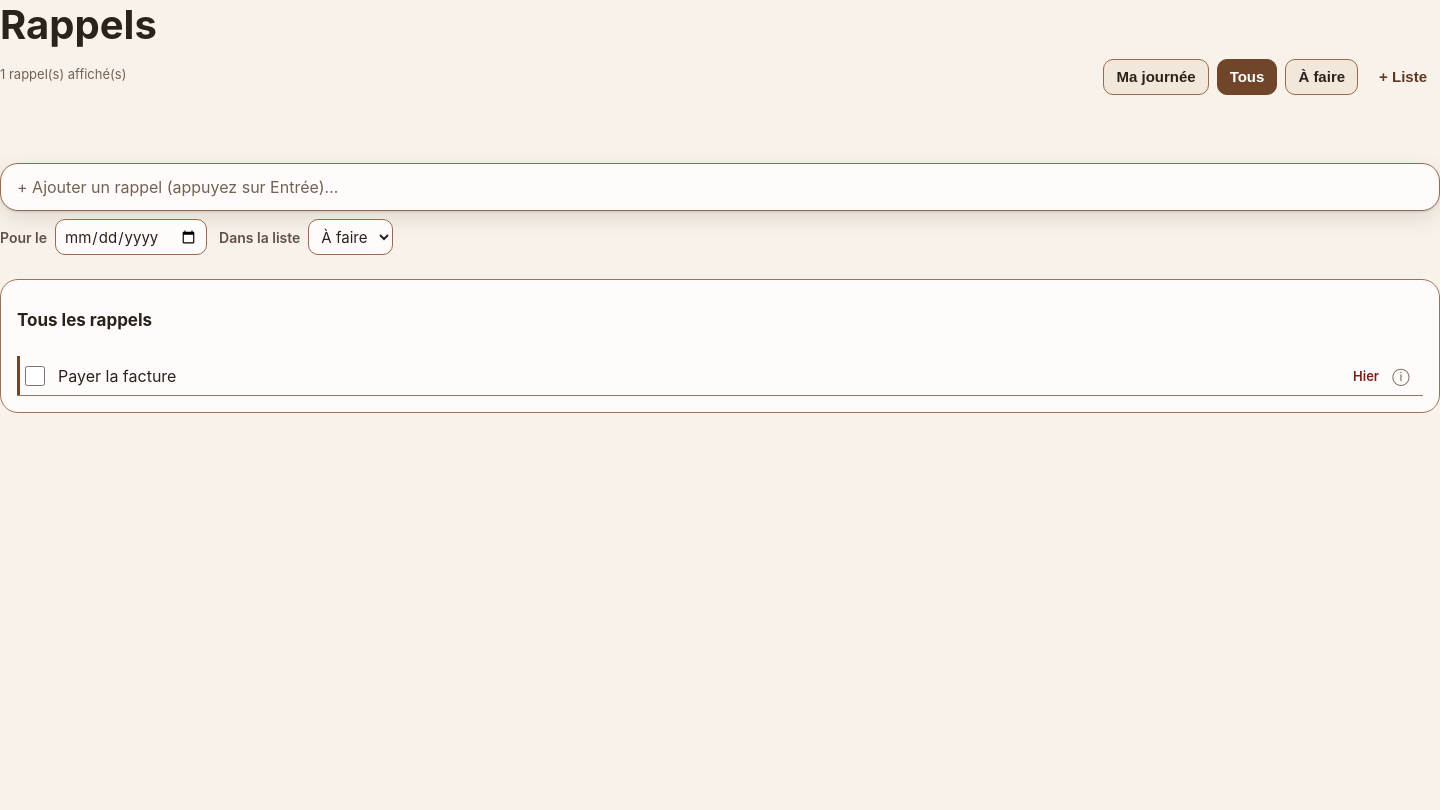
Test: RemindersScreen › demande confirmation avant de supprimer puis retire la ligne
Expected: the button "Supprimer" is not shown
Click the button named "Propriétés avancées".
click(1401, 376)  # box [1387, 362, 1415, 390]
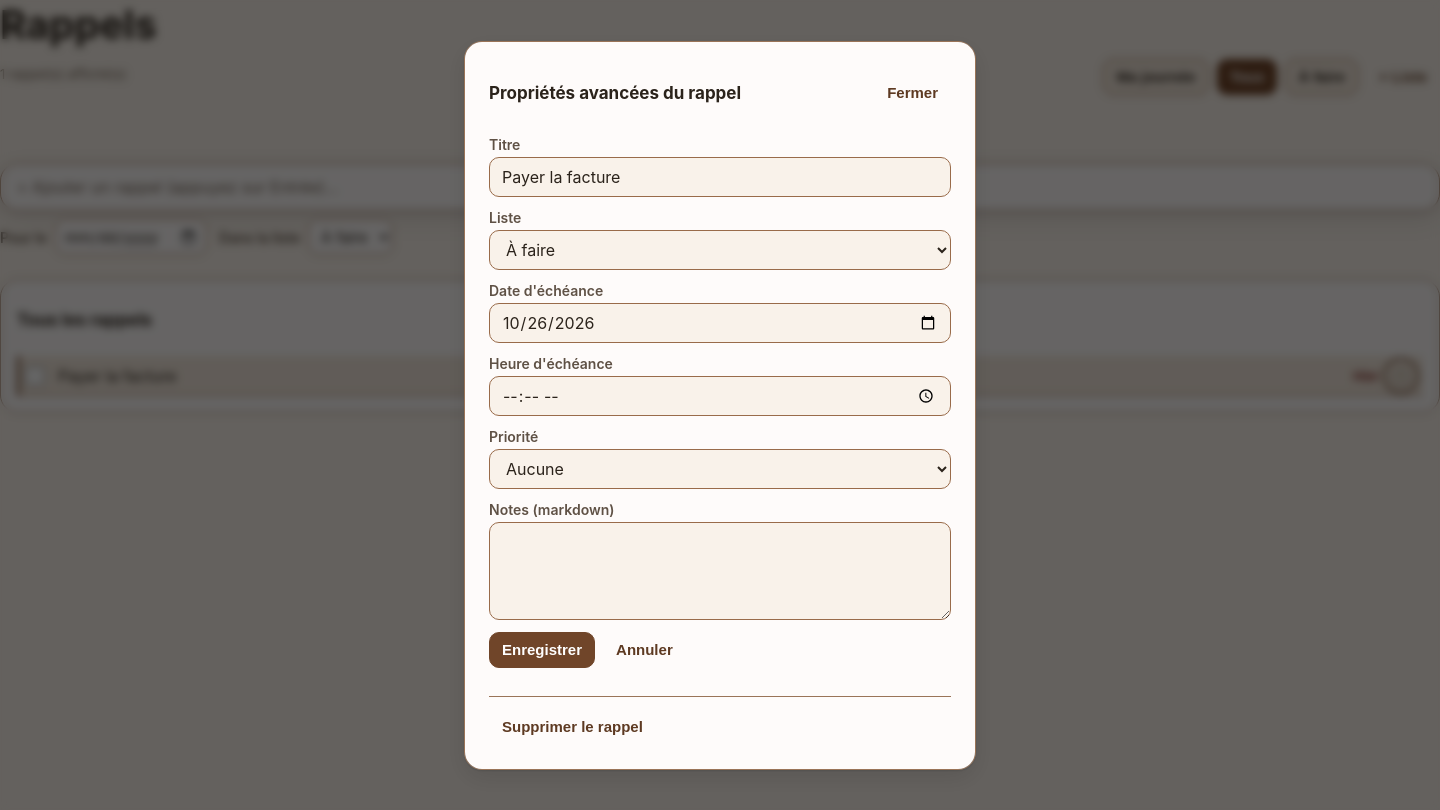
Click the button "Supprimer le rappel".
click(572, 727)  # box [489, 709, 656, 745]
(page scrolled)
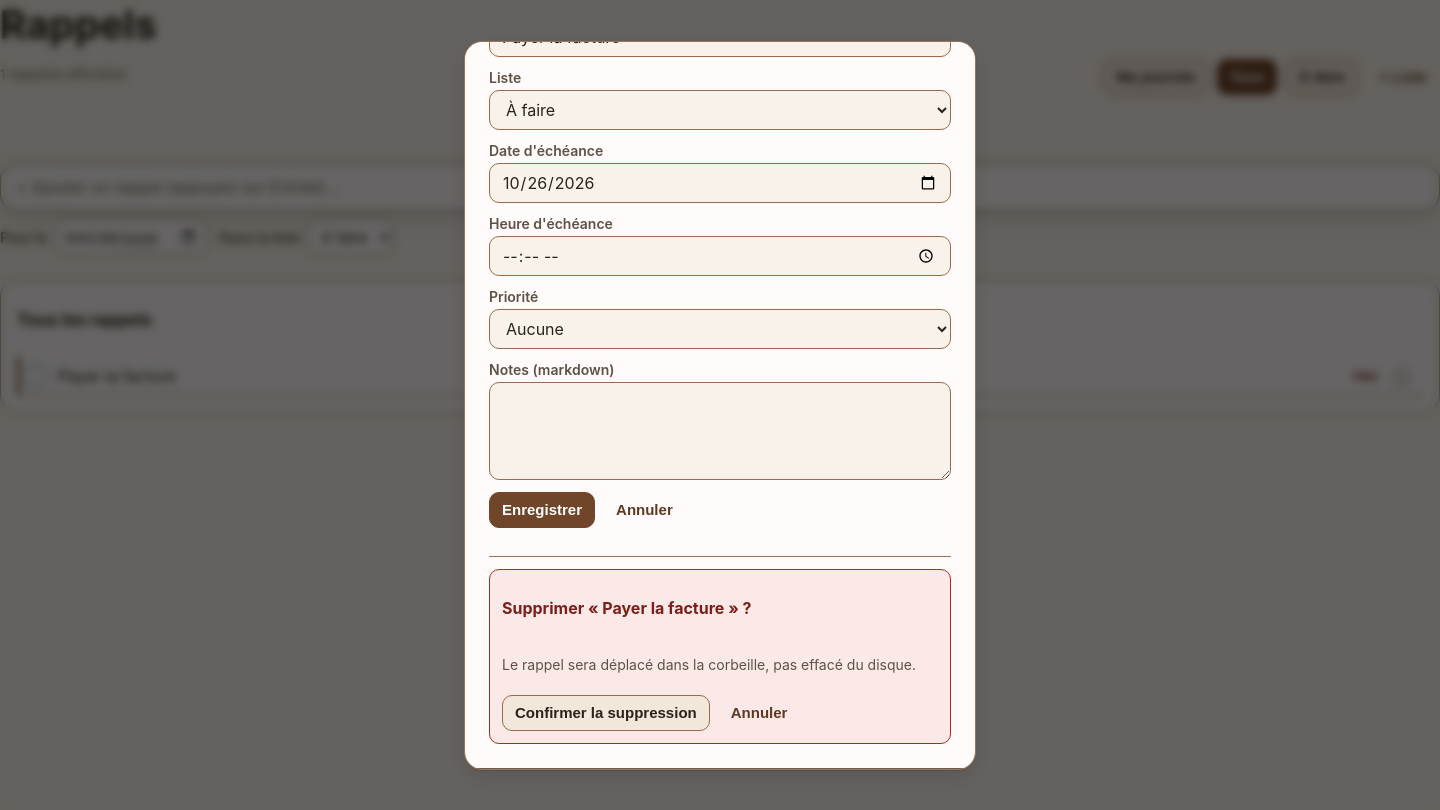
Expected: the dialog shows "Supprimer « Payer la facture » ?", [489, 569, 951, 744]
Expected: the dialog shows "déplacé dans la corbeille", [502, 656, 916, 673]
Click the button "Confirmer la suppression".
click(606, 713)  # box [502, 695, 710, 731]
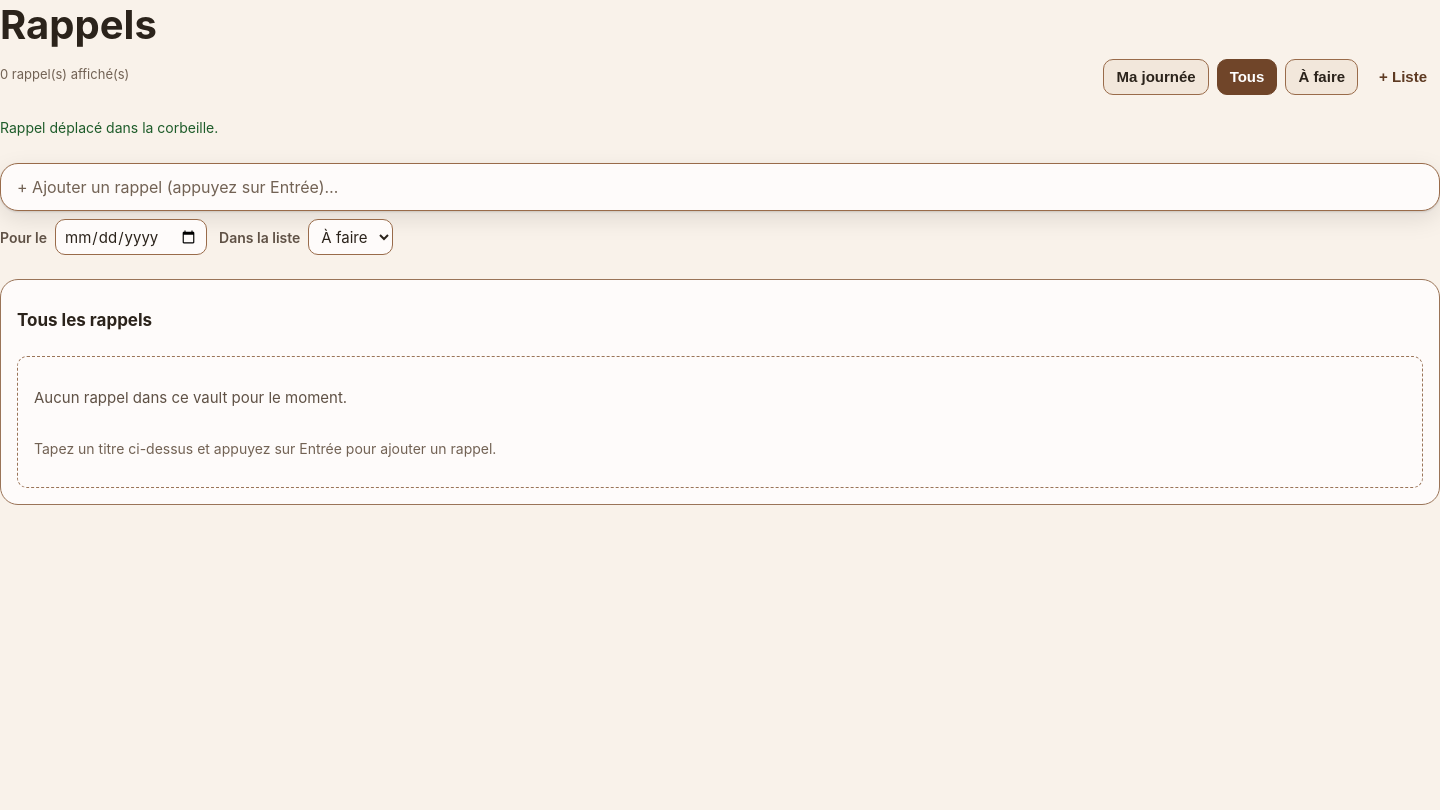
Expected: the text "Rappel déplacé dans la corbeille." is shown, [0, 119, 218, 136]
Expected: the text showing "Payer la facture" is gone
Expected: the dialog is gone
